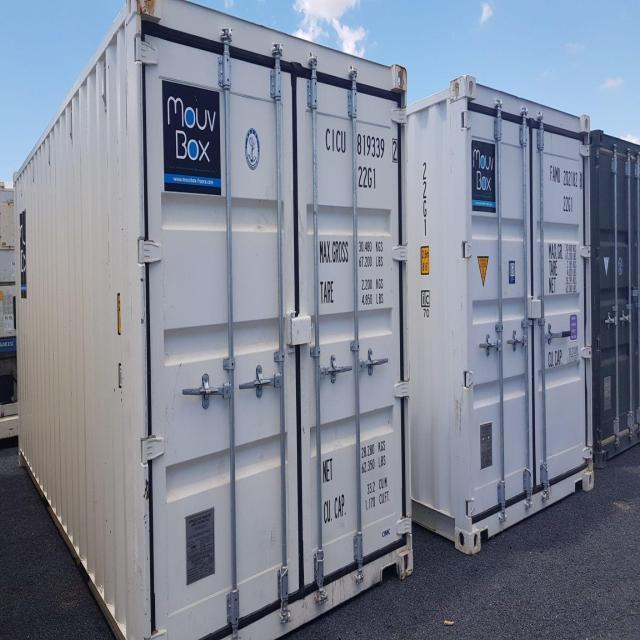ISO: (355, 164, 377, 188)
container_number: (324, 132, 402, 158)
